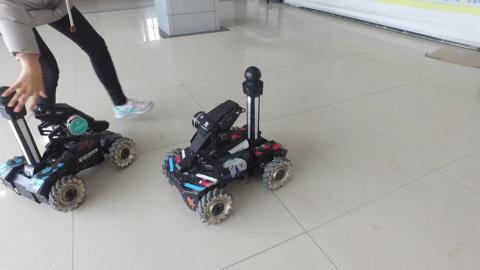chariot: (158, 62, 294, 223), (1, 72, 140, 212)
